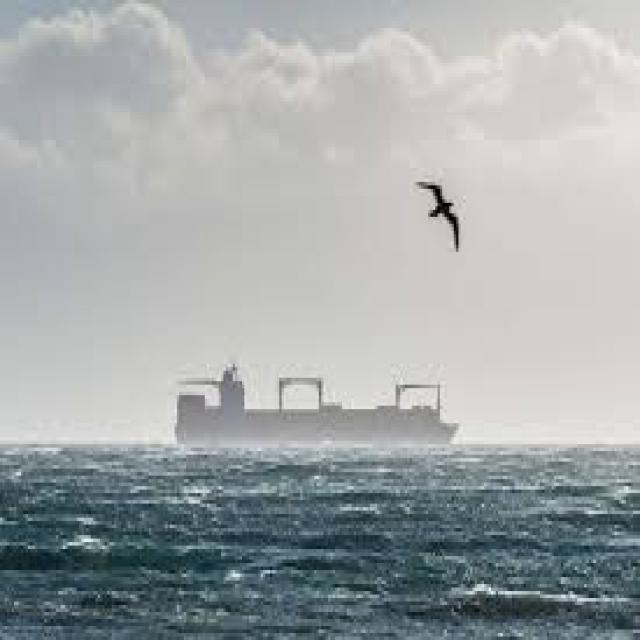cargoship: (162, 363, 456, 447)
